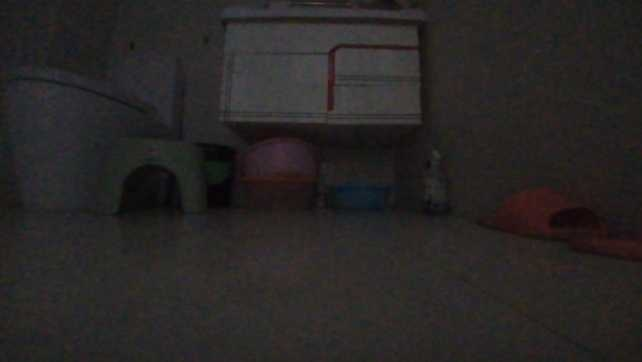plastic_stool: (88, 135, 207, 217)
slipper: (477, 182, 607, 236)
toilet: (5, 42, 189, 225)
washstand: (211, 0, 428, 136)
